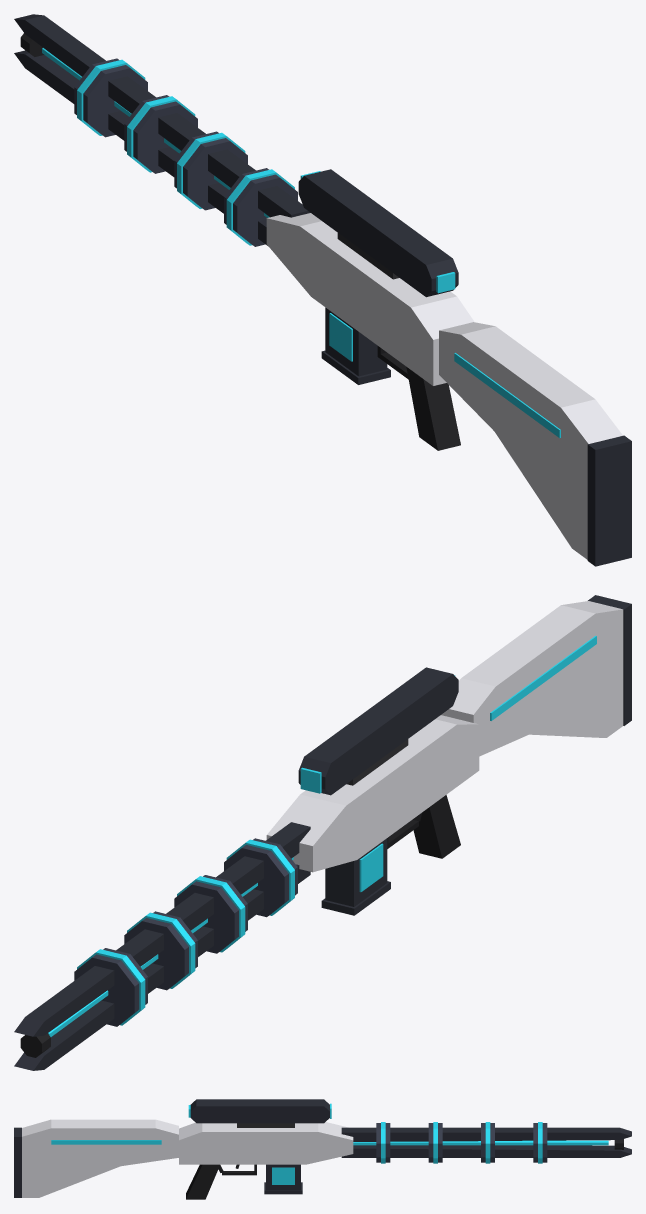
File: Pulse.obj
The picture shows the model from 3 angles, top to bottom: view 1: azimuth 30°, elevation 25°; view 2: azimuth 150°, elevation 25°; view 3: azimuth 270°, elevation 25°; orthographic projection. The views are drawn at different scales.
Visible parts, largest first — view 1: Stock, Body, Barrel, Handguard, Scope, Pad, Accent, Grip, Magazine; view 2: Stock, Body, Barrel, Handguard, Scope, Accent, Magazine, Grip, Pad; view 3: Stock, Body, Barrel, Scope, Accent, Handguard, Grip, Magazine, Pad, Mount, Trigger.
Part boxes in pixels (x1,y1,x2,y2): Stock: [439, 322, 622, 559]; Body: [266, 213, 474, 385]; Barrel: [14, 14, 310, 246]; Handguard: [74, 58, 297, 246]; Scope: [298, 169, 458, 297]; Pad: [587, 435, 631, 566]; Accent: [42, 48, 560, 438]; Grip: [406, 367, 460, 450]; Magazine: [321, 307, 390, 384]; Stock: [441, 601, 623, 756]; Body: [266, 715, 479, 872]; Barrel: [14, 822, 310, 1070]; Handguard: [74, 838, 297, 1026]; Scope: [298, 667, 458, 795]; Accent: [48, 635, 596, 1036]; Magazine: [321, 838, 390, 915]; Grip: [413, 795, 460, 858]; Pad: [588, 595, 631, 725]; Stock: [22, 1119, 178, 1197]; Body: [179, 1122, 353, 1164]; Barrel: [341, 1127, 631, 1157]; Scope: [190, 1099, 329, 1123]; Accent: [51, 1122, 608, 1184]; Handguard: [376, 1123, 547, 1162]; Grip: [186, 1164, 219, 1199]; Magazine: [264, 1164, 302, 1194]; Pad: [14, 1127, 21, 1197]; Mount: [237, 1123, 294, 1127]; Trigger: [218, 1164, 256, 1175].
Size of the model in its own units: 0.3326 by 0.89 by 5.32.
